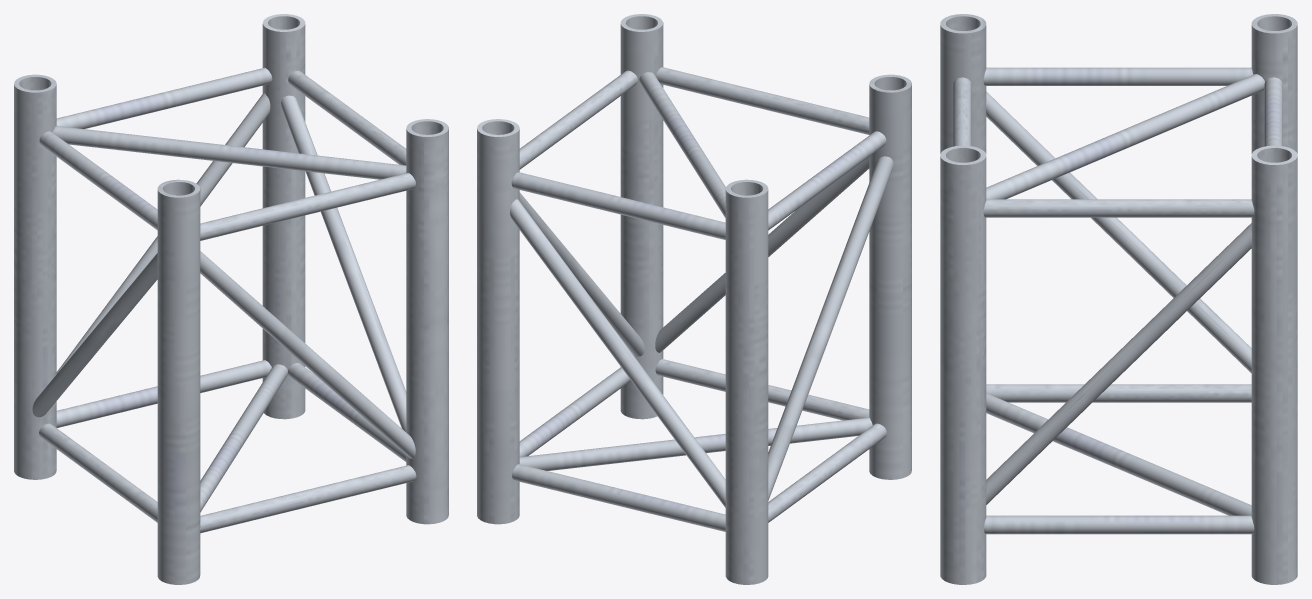
The model's file is Prolyte_H40V_5m-3261d245.glb.
The picture shows the model from 3 angles, left to right: view 1: azimuth 30°, elevation 25°; view 2: azimuth 150°, elevation 25°; view 3: azimuth 270°, elevation 25°; orthographic projection. The views are drawn at different scales.
Parts seen in each view (by area): view 1: Geom3D, Geom3D_ (×8), Geom3D_Component#1 (×2); view 2: Geom3D, Geom3D_ (×8), Geom3D_Component#1 (×2); view 3: Geom3D, Geom3D_ (×6), Geom3D_Component#1.
Boxes of the visible parts, left/top/right/bottom form: Geom3D: left=14, top=14, right=448, bottom=584; Geom3D_ (×8): left=32, top=67, right=415, bottom=522; Geom3D_Component#1 (×2): left=39, top=70, right=416, bottom=533; Geom3D: left=477, top=14, right=911, bottom=584; Geom3D_ (×8): left=510, top=67, right=893, bottom=522; Geom3D_Component#1 (×2): left=512, top=70, right=886, bottom=531; Geom3D: left=940, top=14, right=1297, bottom=584; Geom3D_ (×6): left=953, top=74, right=1282, bottom=534; Geom3D_Component#1: left=983, top=67, right=1254, bottom=217.
Bounding box in the file's own units: 0.3859 × 0.5 × 0.3858.
Materials: 2 (2 with a texture image).
